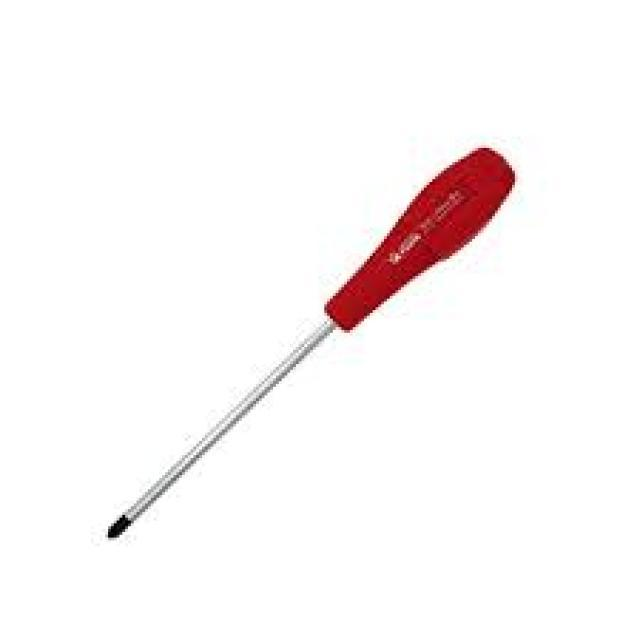screwdriver: (104, 146, 516, 542)
